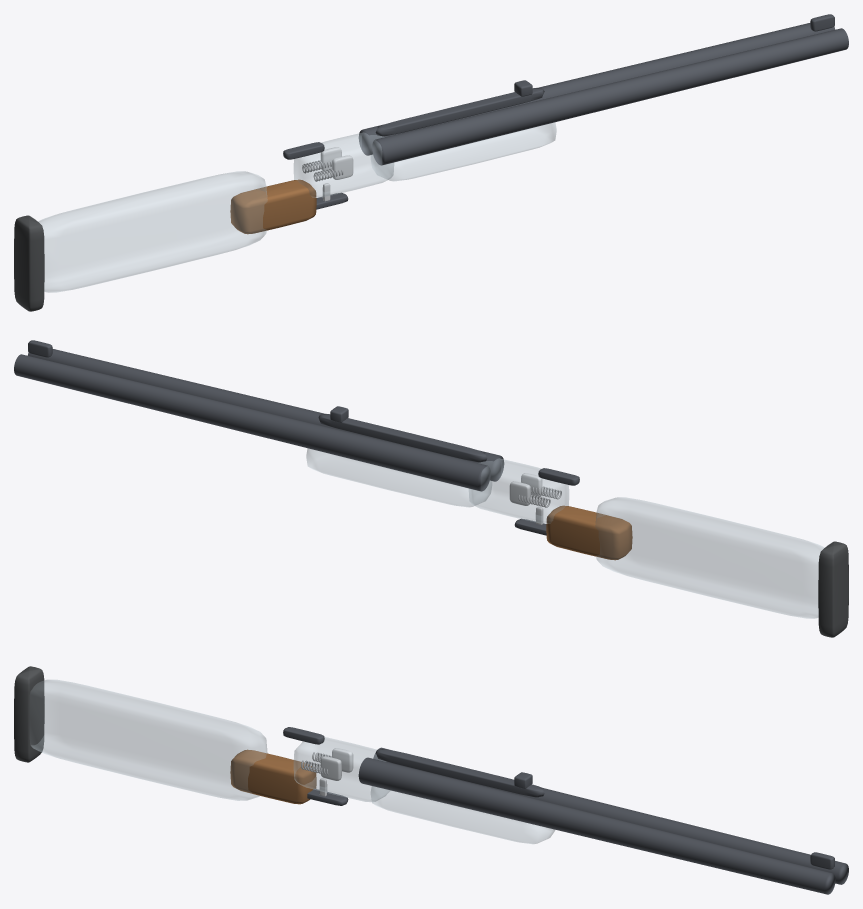
File: elephant-700ne-gls.glb
3 renders of one model, top to bottom at view 1: azimuth 30°, elevation 25°; view 2: azimuth 150°, elevation 25°; view 3: azimuth 330°, elevation 25°, orthographic.
Visible parts, largest first — view 1: buttstock_main, barrel_R_660mm, sidelock_action, barrel_L_660mm, forend_walnut, wrist_grip, buttpad_recoil, quarter_rib; view 2: buttstock_main, barrel_L_660mm, sidelock_action, barrel_R_660mm, forend_walnut, wrist_grip, buttpad_recoil, quarter_rib; view 3: buttstock_main, barrel_R_660mm, barrel_L_660mm, sidelock_action, forend_walnut, wrist_grip, buttpad_recoil, quarter_rib, top_lever, hammer_R.
Boxes of the visible parts, x1=… form: buttstock_main: x1=38, y1=171, x2=267, y2=292; barrel_R_660mm: x1=372, y1=28, x2=848, y2=165; sidelock_action: x1=293, y1=132, x2=393, y2=197; barrel_L_660mm: x1=358, y1=23, x2=834, y2=155; forend_walnut: x1=371, y1=122, x2=556, y2=181; wrist_grip: x1=230, y1=179, x2=316, y2=234; buttpad_recoil: x1=14, y1=215, x2=44, y2=311; quarter_rib: x1=375, y1=88, x2=544, y2=136; buttstock_main: x1=595, y1=497, x2=824, y2=618; barrel_L_660mm: x1=14, y1=354, x2=490, y2=491; sidelock_action: x1=469, y1=458, x2=569, y2=523; barrel_R_660mm: x1=28, y1=349, x2=504, y2=481; forend_walnut: x1=306, y1=448, x2=491, y2=507; wrist_grip: x1=546, y1=505, x2=632, y2=560; buttpad_recoil: x1=818, y1=541, x2=848, y2=637; quarter_rib: x1=318, y1=414, x2=487, y2=462; buttstock_main: x1=30, y1=679, x2=267, y2=800; barrel_R_660mm: x1=358, y1=757, x2=835, y2=894; barrel_L_660mm: x1=373, y1=747, x2=848, y2=884; sidelock_action: x1=293, y1=737, x2=390, y2=802; forend_walnut: x1=371, y1=786, x2=554, y2=844; wrist_grip: x1=230, y1=749, x2=316, y2=804; buttpad_recoil: x1=14, y1=666, x2=44, y2=762; quarter_rib: x1=375, y1=749, x2=544, y2=797; top_lever: x1=283, y1=727, x2=324, y2=744; hammer_R: x1=320, y1=756, x2=341, y2=780.
Bounding box in the file's own units: 1.16 × 0.14 × 0.066.
